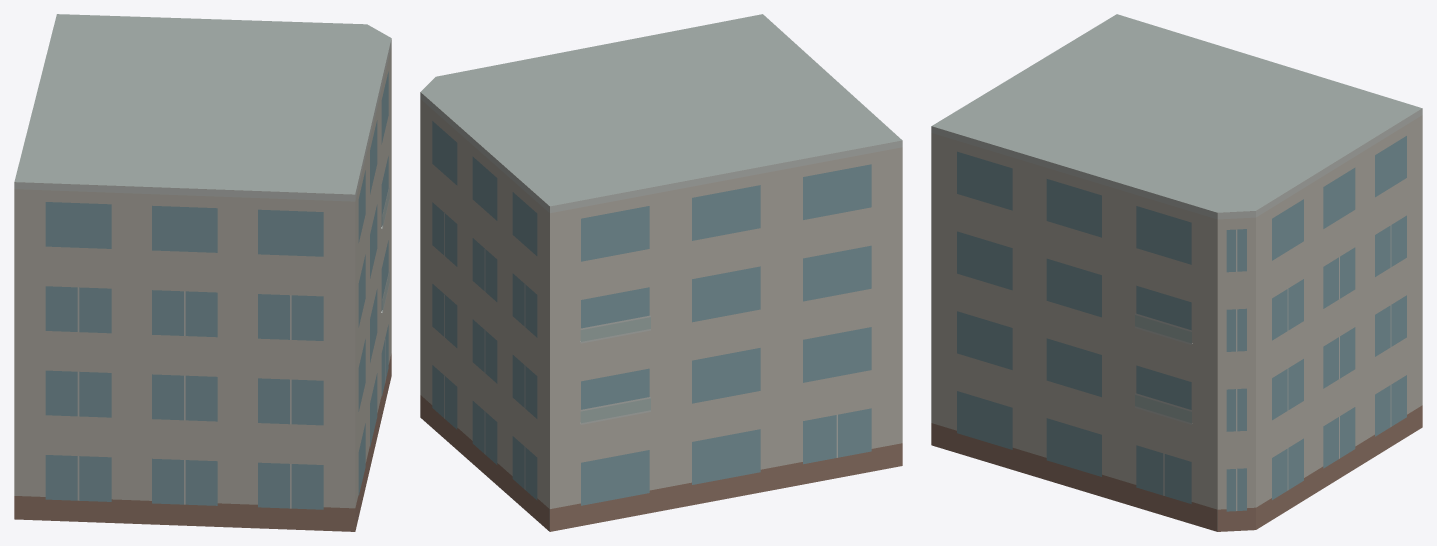
The model's file is survey-upis-32612082.glb.
The picture shows the model from 3 angles, left to right: view 1: azimuth 30°, elevation 25°; view 2: azimuth 150°, elevation 25°; view 3: azimuth 270°, elevation 25°; orthographic projection. The views are drawn at different scales.
Parts seen in each view (by area): view 1: survey-upis-32612082.tmp; view 2: survey-upis-32612082.tmp; view 3: survey-upis-32612082.tmp.
Boxes of the visible parts, x1,y1,x2,y2 form: survey-upis-32612082.tmp: (14,14,391,531); survey-upis-32612082.tmp: (420,14,902,531); survey-upis-32612082.tmp: (931,14,1422,531).
Size of the model in its own units: 15.5 by 11.6 by 16.19.
